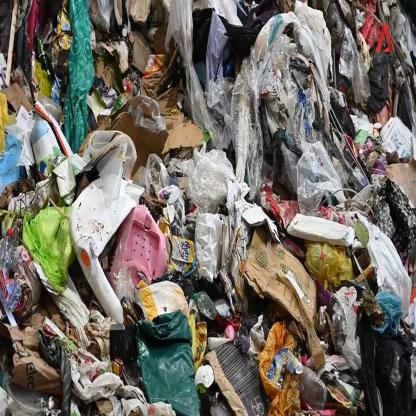Glass Bottle: (0, 228, 22, 314), (188, 290, 218, 322), (110, 92, 130, 119)
